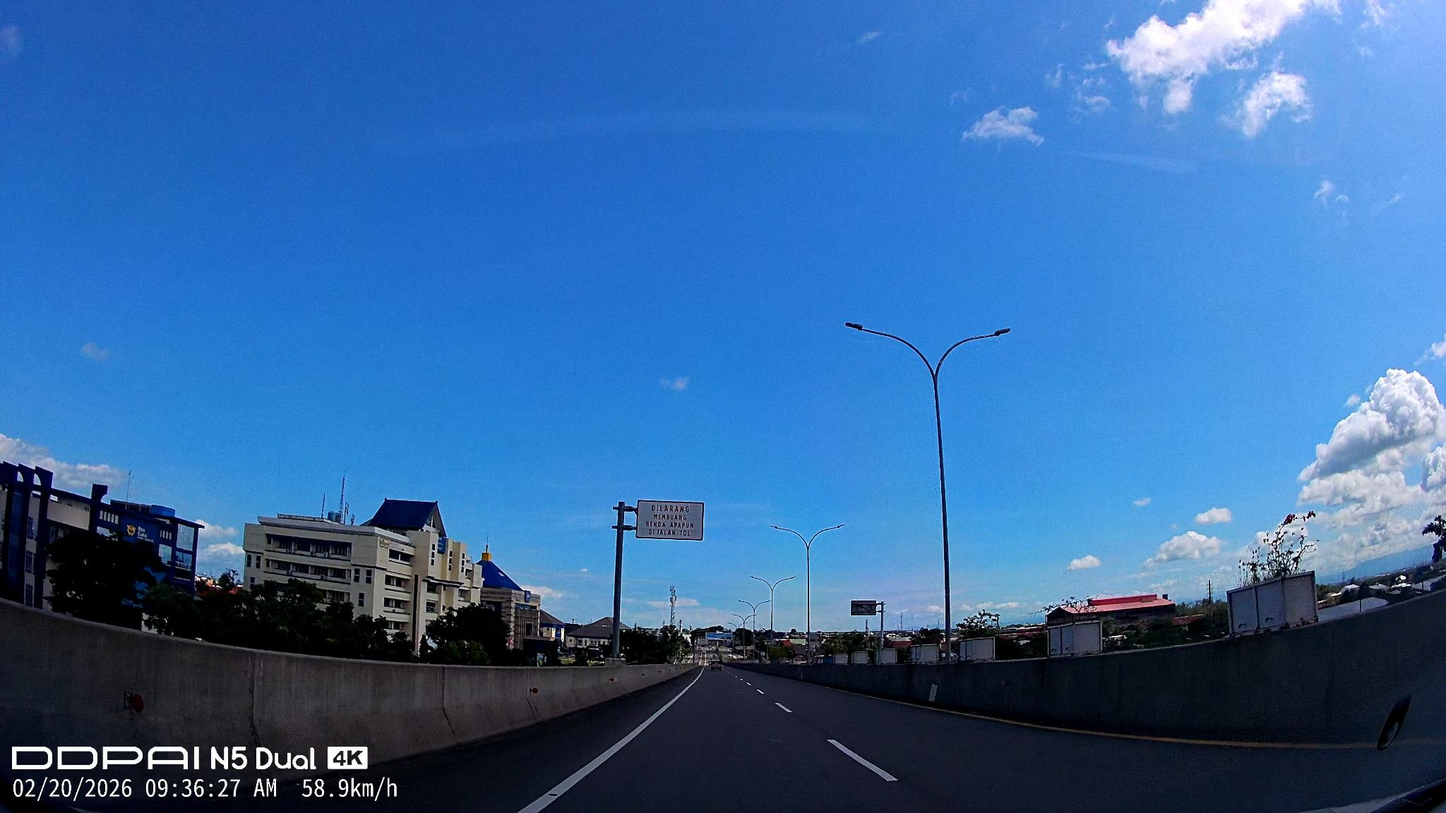rambu_teks: (635, 499, 705, 541)
